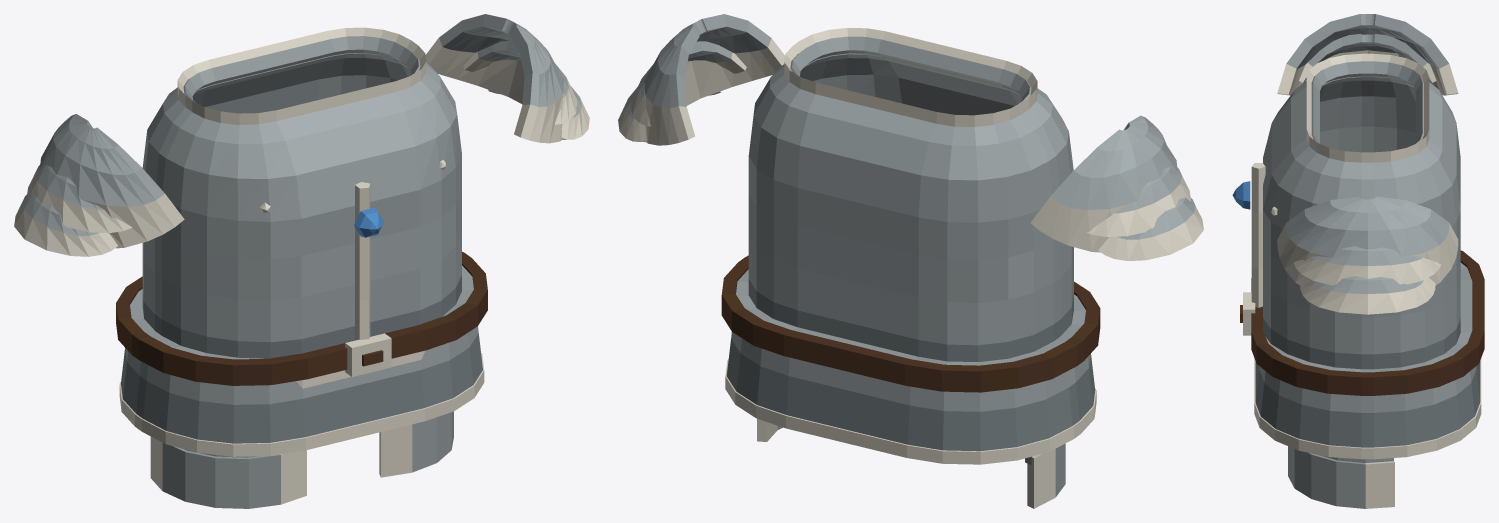
Rendered from armor_body_plate.glb.
3 views of the same model, side by side, from view 1: azimuth 30°, elevation 25°; view 2: azimuth 150°, elevation 25°; view 3: azimuth 270°, elevation 25° (orthographic). The views are drawn at different scales.
Visible parts, largest first — view 1: armor_body_plate, armor_body_plate_belt, armor_body_plate_pauldron_R, armor_body_plate_pauldron_L, armor_body_plate_tasset_R, armor_body_plate_tasset_L; view 2: armor_body_plate, armor_body_plate_belt, armor_body_plate_pauldron_R, armor_body_plate_pauldron_L, armor_body_plate_tasset_R; view 3: armor_body_plate, armor_body_plate_belt, armor_body_plate_pauldron_L, armor_body_plate_pauldron_R, armor_body_plate_tasset_L.
Part boxes in pixels (x1,y1,x2,y2): armor_body_plate: (142,27,461,388); armor_body_plate_belt: (116,251,487,456); armor_body_plate_pauldron_R: (14,114,184,256); armor_body_plate_pauldron_L: (425,14,589,143); armor_body_plate_tasset_R: (150,436,306,508); armor_body_plate_tasset_L: (379,411,453,477); armor_body_plate: (748,28,1073,361); armor_body_plate_belt: (721,255,1100,464); armor_body_plate_pauldron_R: (1030,115,1203,260); armor_body_plate_pauldron_L: (618,14,785,145); armor_body_plate_tasset_R: (1025,443,1065,508); armor_body_plate: (1232,53,1460,369); armor_body_plate_belt: (1240,250,1484,459); armor_body_plate_pauldron_L: (1277,196,1458,314); armor_body_plate_pauldron_R: (1277,14,1458,95); armor_body_plate_tasset_L: (1288,446,1394,508).
Size of the model in its own units: 1.4 by 0.9287 by 0.6157.
